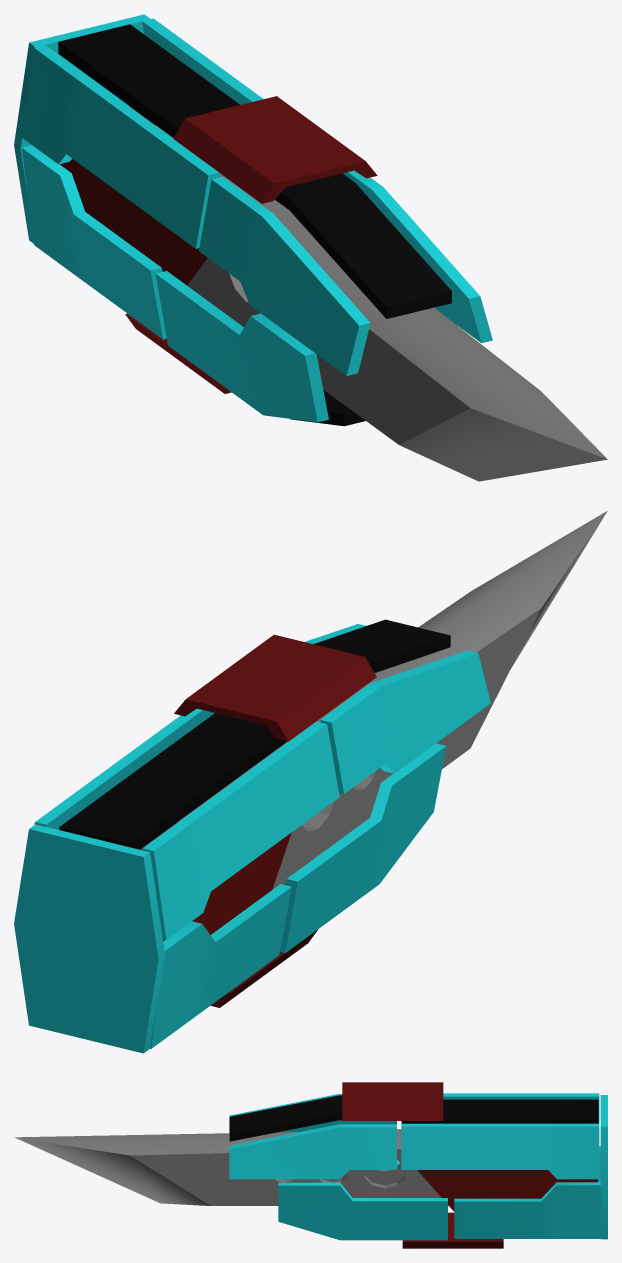
Rendered from ArmBlade.fbx.
The picture shows the model from 3 angles, top to bottom: view 1: azimuth 30°, elevation 25°; view 2: azimuth 150°, elevation 25°; view 3: azimuth 270°, elevation 25°; orthographic projection. The views are drawn at different scales.
Parts seen in each view (by area): view 1: arm, blade; view 2: arm, blade; view 3: arm, blade.
Part boxes in pixels (x1,y1,x2,y2): arm: (14, 14, 492, 426); blade: (60, 106, 607, 481); arm: (14, 619, 490, 1053); blade: (140, 511, 607, 941); arm: (229, 1082, 607, 1248); blade: (14, 1129, 597, 1211).
Bounding box in the file's own units: 57.25 × 93.53 × 354.
